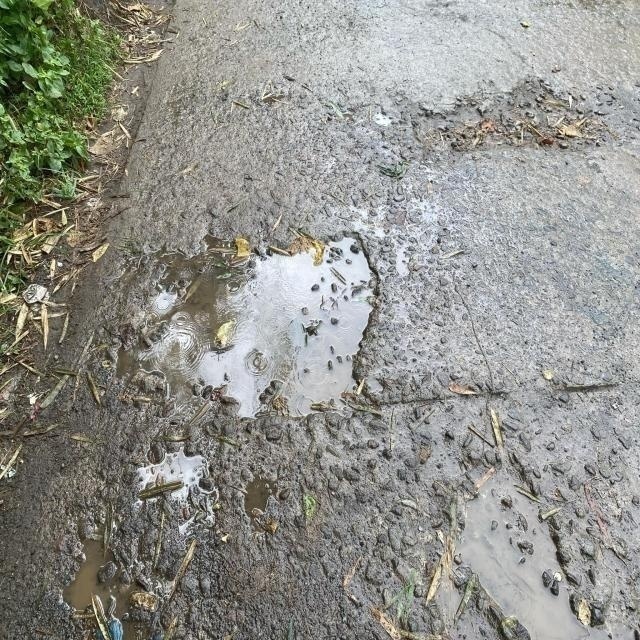pothole: (142, 213, 388, 432)
